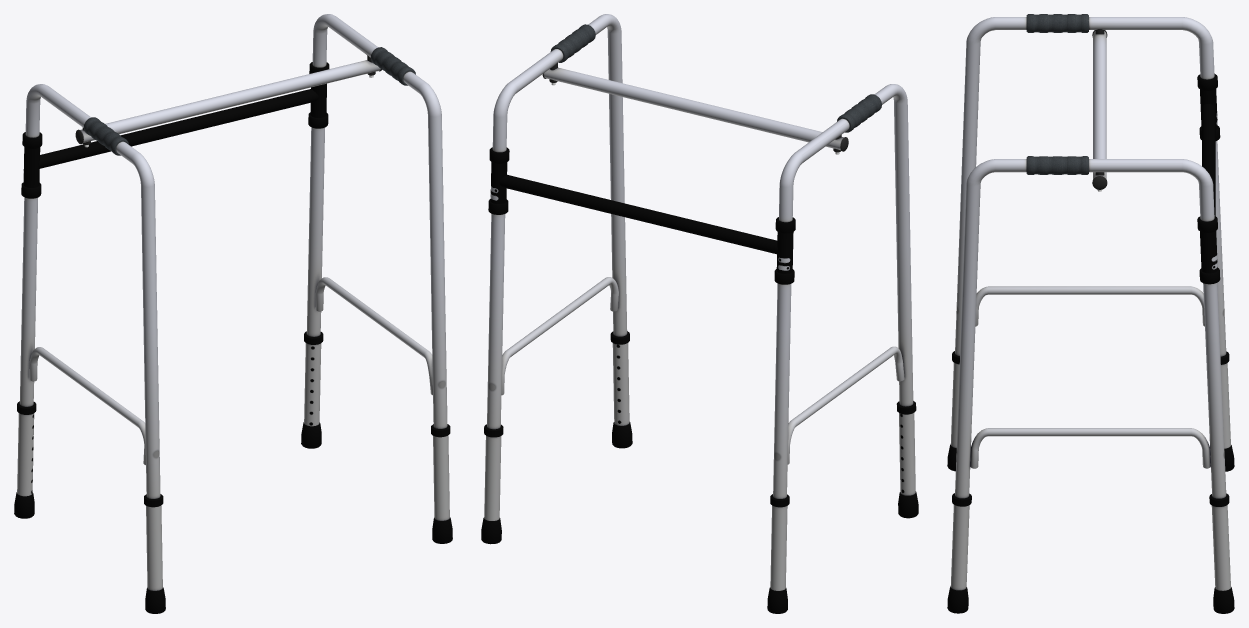
Rendered from walkers.fbx.
3 views of the same model, side by side, from view 1: azimuth 30°, elevation 25°; view 2: azimuth 150°, elevation 25°; view 3: azimuth 270°, elevation 25° (orthographic).
Visible parts, largest first — view 1: walkers; view 2: walkers; view 3: walkers.
Part boxes in pixels (x1,y1,x2,y2): walkers: [14, 14, 452, 613]; walkers: [481, 14, 918, 613]; walkers: [947, 14, 1234, 613].
Bounding box in the file's own units: 1527 × 2139 × 1228.
Materials: 1 (1 with a texture image).
